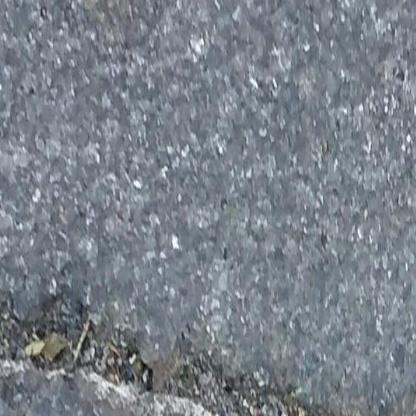Cracks: (0, 307, 416, 416)
